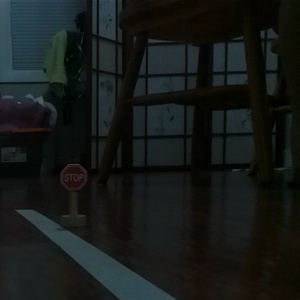stop sign: (57, 160, 91, 230)
